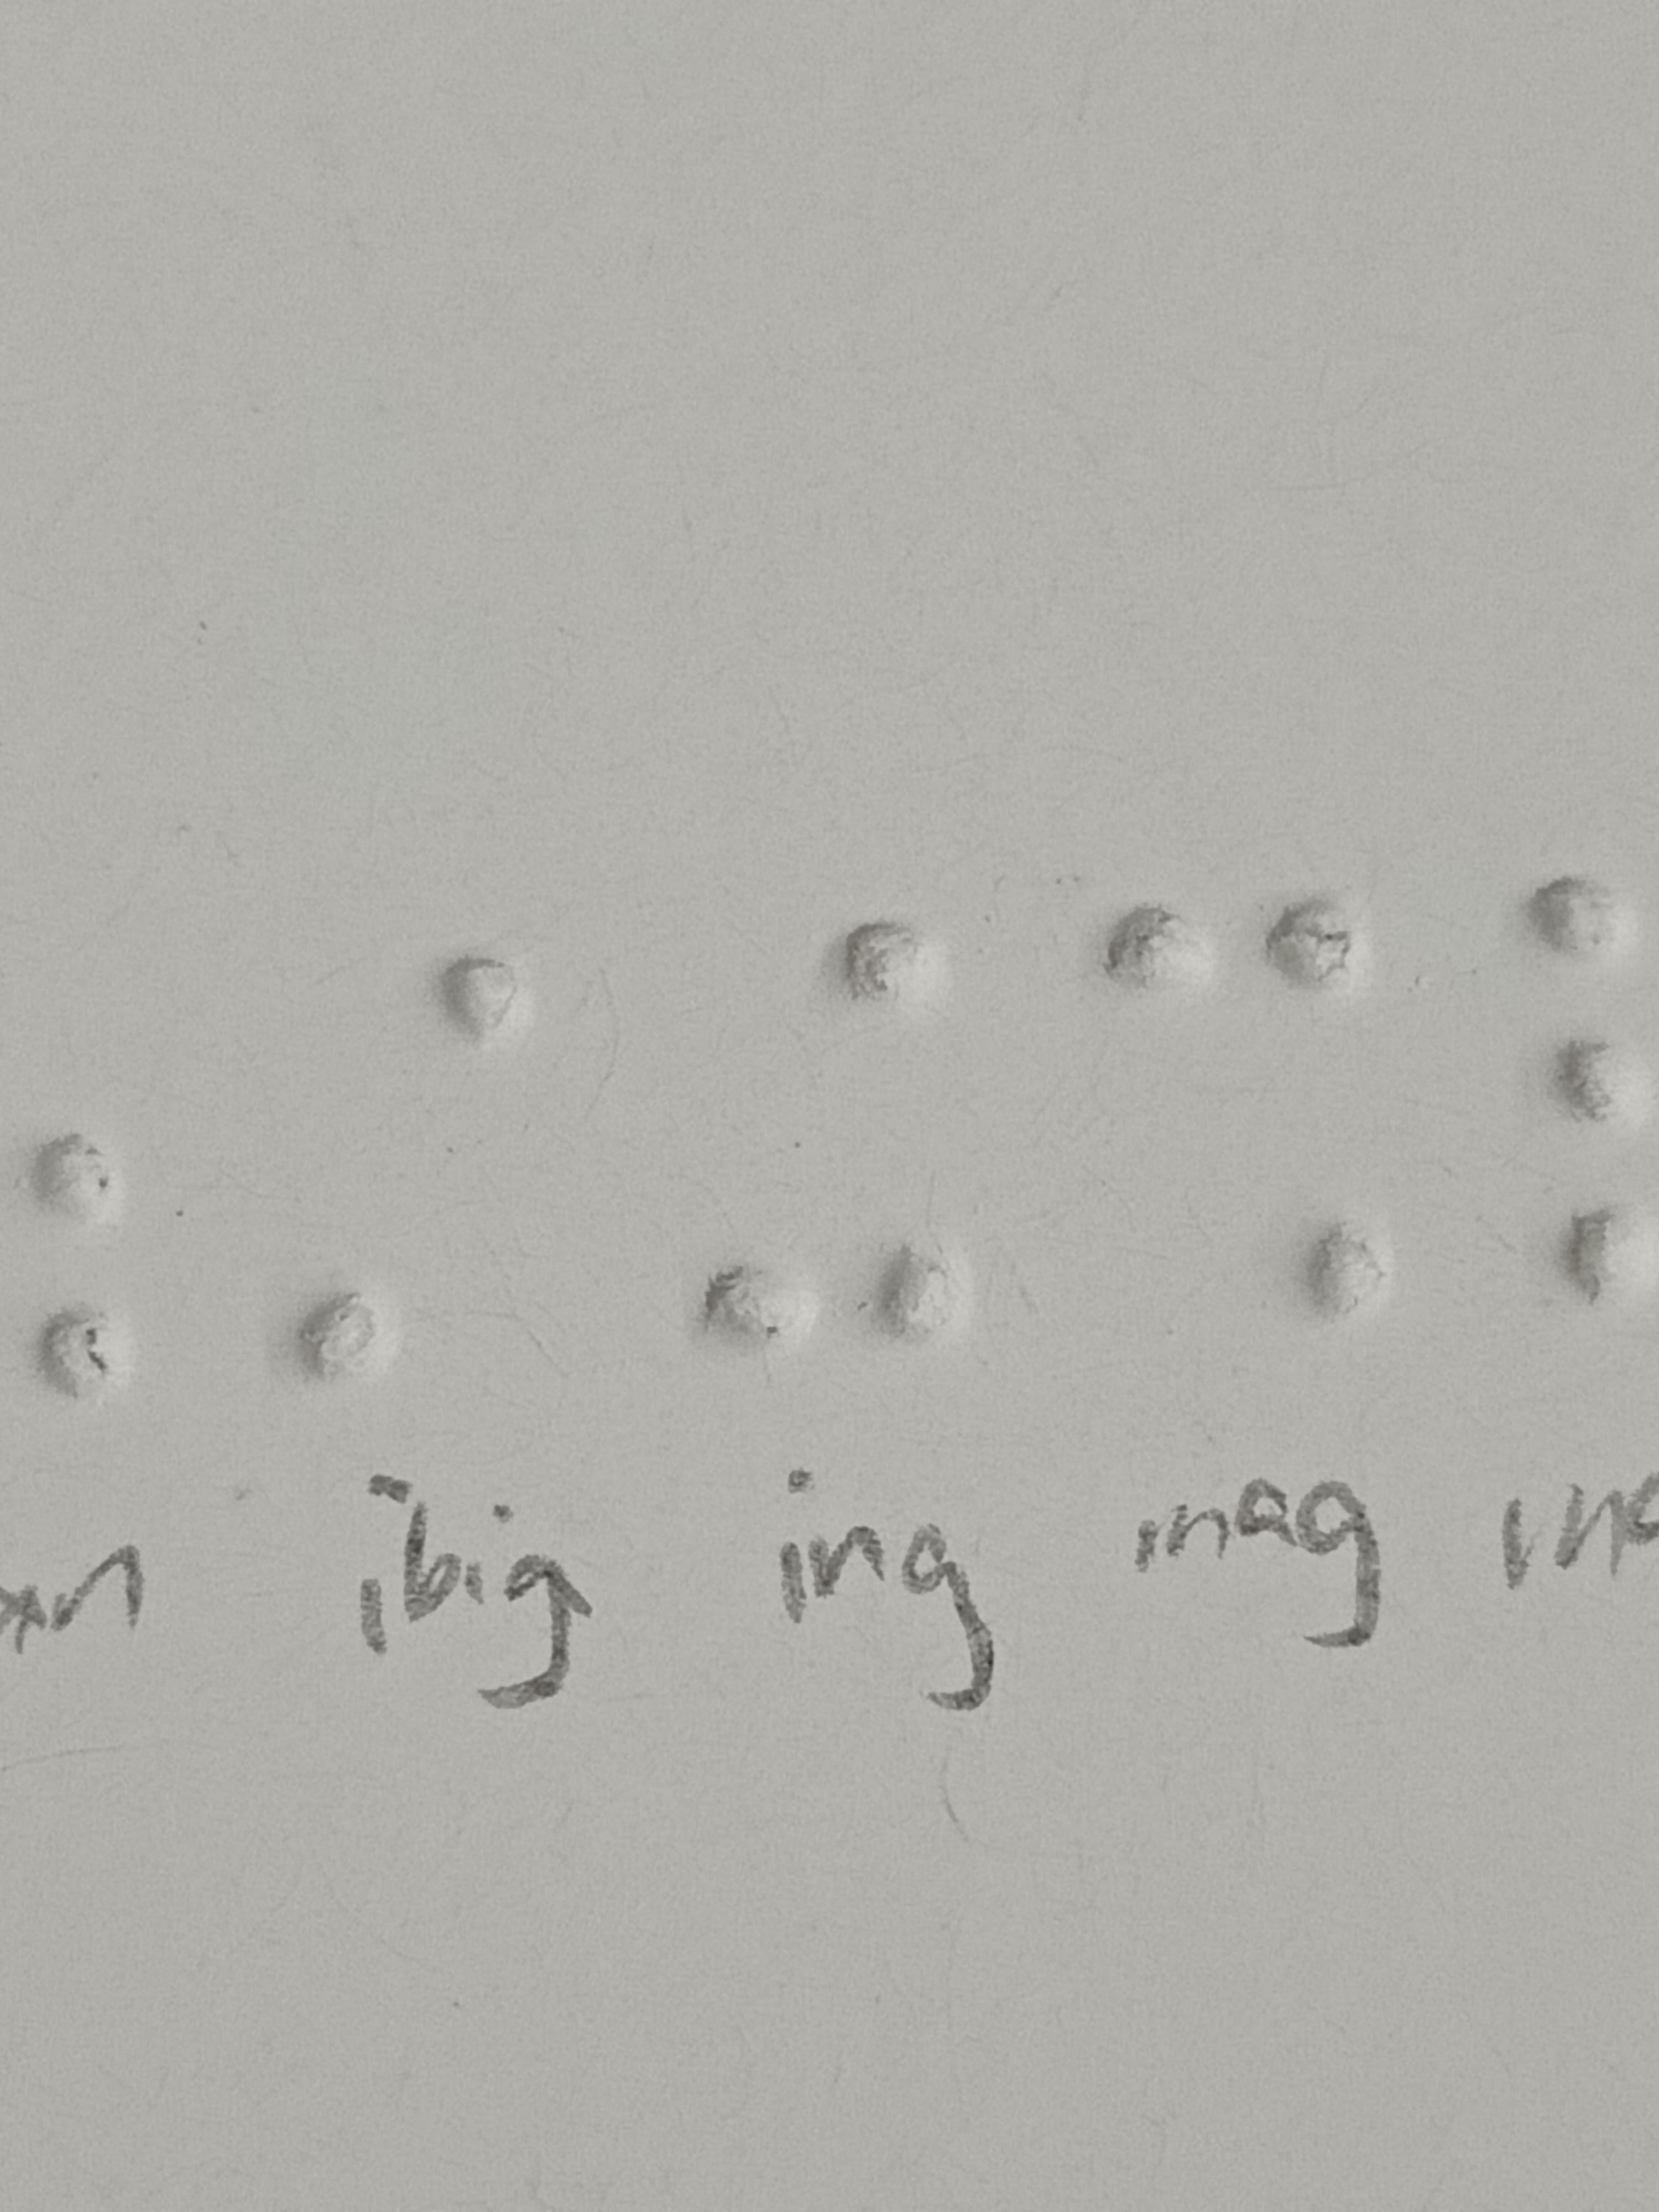one_cell_part_word_ibig: (289, 948, 537, 1383)
one_cell_part_word_ing: (709, 925, 960, 1353)
one_cell_part_word_mag: (1101, 887, 1398, 1334)
